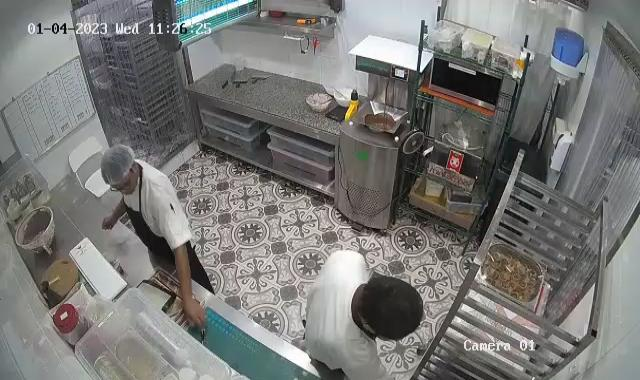hairnet: (100, 144, 138, 191)
no_hairnet: (355, 274, 425, 340)
